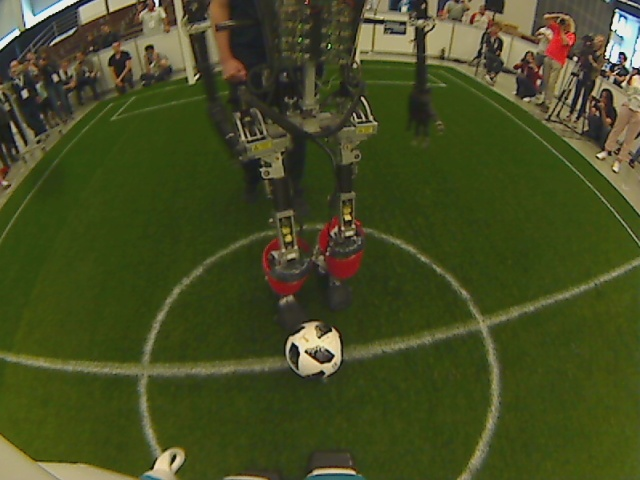ball: (283, 319, 345, 382)
